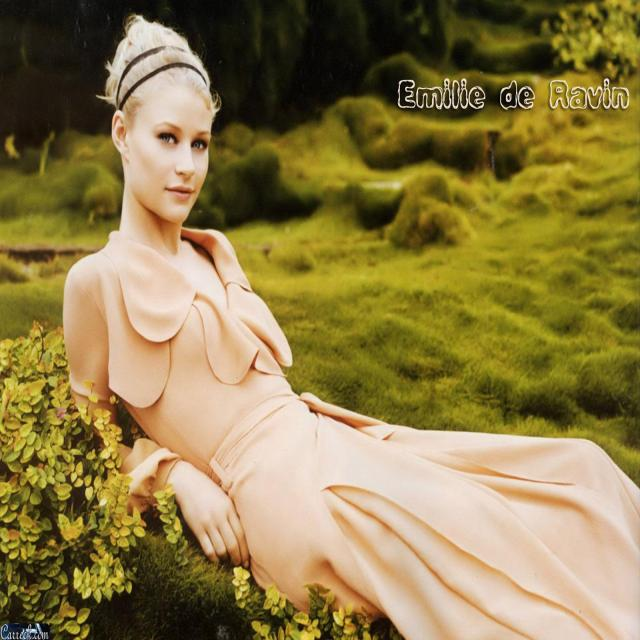no-earmuff: (104, 94, 144, 167)
